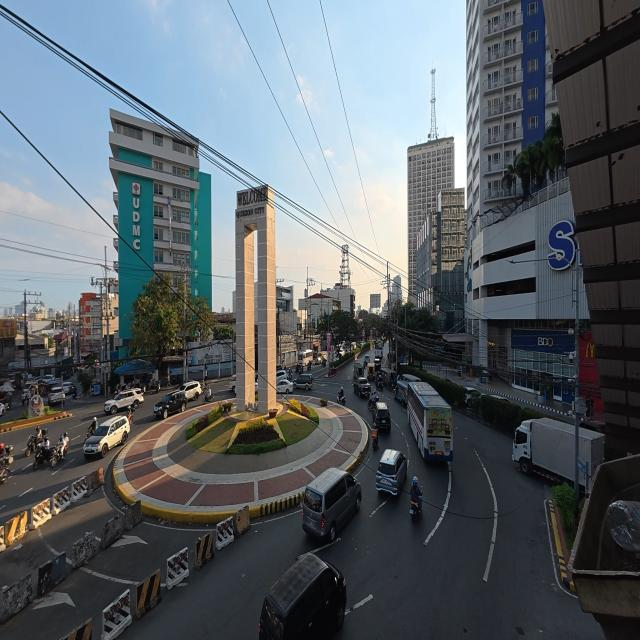Jeepneys: (381, 368, 396, 388), (354, 362, 364, 380), (366, 363, 375, 381), (374, 357, 381, 371)
bus: (407, 382, 452, 461), (298, 350, 313, 366), (375, 341, 382, 358)
car: (259, 553, 346, 639), (83, 416, 130, 458), (376, 449, 407, 495), (104, 389, 143, 414), (154, 391, 187, 418), (372, 402, 390, 429), (177, 381, 202, 400), (354, 377, 372, 397), (580, 419, 605, 433), (294, 374, 313, 390), (49, 386, 65, 405), (465, 387, 481, 405), (276, 378, 293, 394), (63, 381, 77, 397), (491, 394, 512, 403), (23, 381, 39, 392), (276, 370, 287, 384), (230, 375, 236, 393), (42, 375, 54, 383), (0, 402, 6, 416), (276, 363, 284, 371), (364, 354, 369, 364), (255, 381, 258, 392)
motorcycle: (0, 445, 13, 484), (33, 446, 53, 470), (25, 434, 41, 456), (51, 444, 65, 467), (410, 498, 421, 521), (85, 422, 97, 441), (368, 395, 378, 410), (371, 429, 378, 450), (127, 406, 134, 427), (148, 381, 160, 393), (202, 394, 213, 404), (22, 392, 29, 405), (376, 379, 383, 391), (337, 395, 345, 405), (307, 362, 311, 372)
trucks: (513, 418, 575, 480)
vans: (303, 468, 361, 541)
